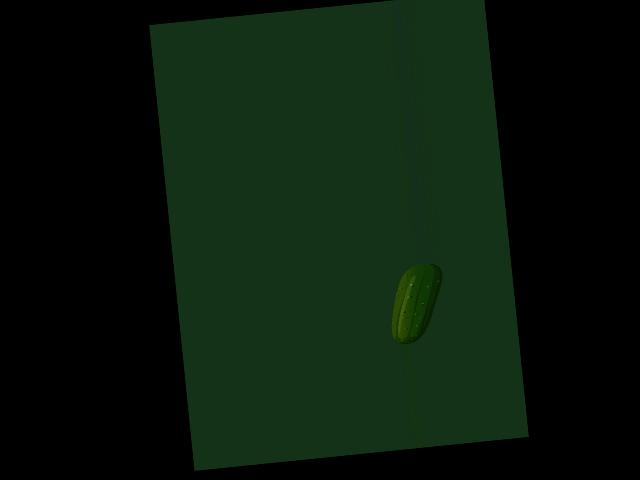cucumber: (385, 261, 449, 345)
